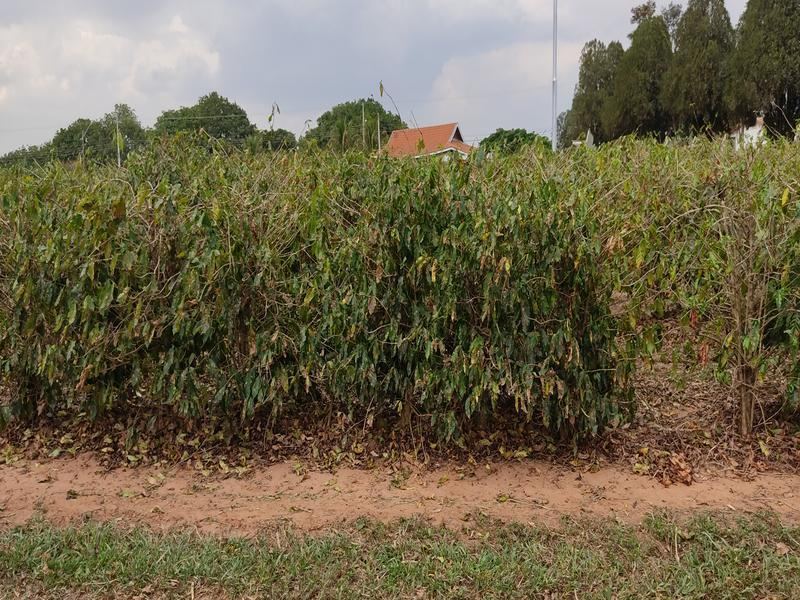coffee: (662, 147, 799, 447), (509, 171, 633, 468), (426, 163, 528, 458), (275, 186, 380, 437), (1, 158, 83, 442), (79, 147, 159, 432), (370, 182, 453, 450), (190, 177, 275, 434), (138, 179, 223, 423)
